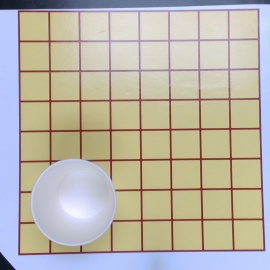cup: (31, 158, 117, 246)
